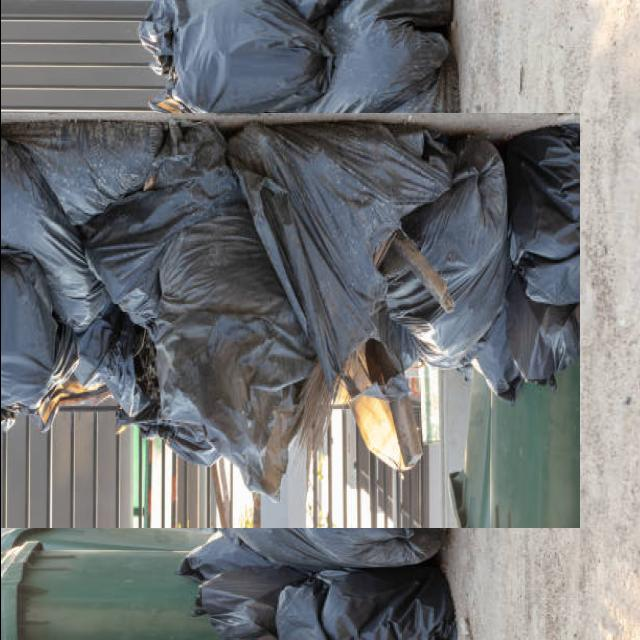garbage: (0, 56, 522, 584)
